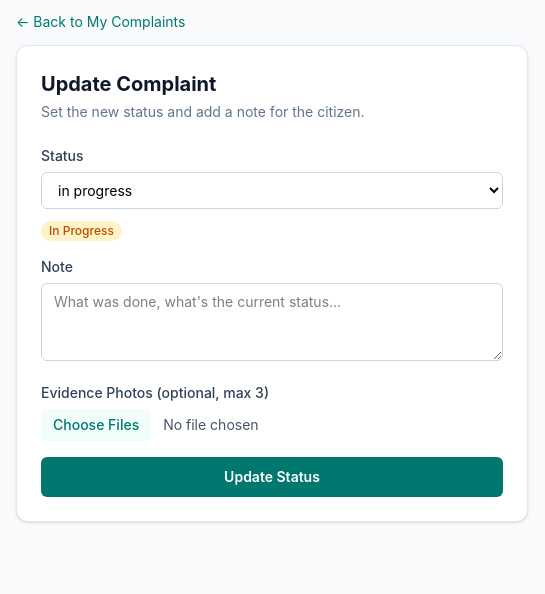
Test: UpdateComplaint page (critical flow: status update) › shows an error message if the update fails
Click the button "Update Status" at (272, 477), box [41, 457, 503, 497]
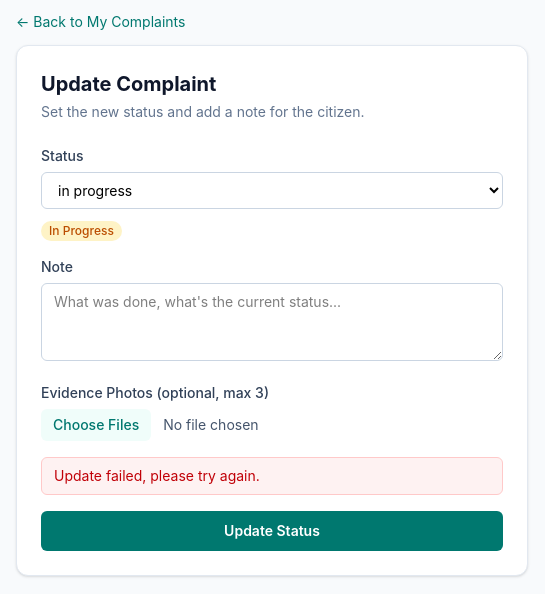
Now the text "Update failed, please try again." is shown, box [41, 457, 503, 495]
